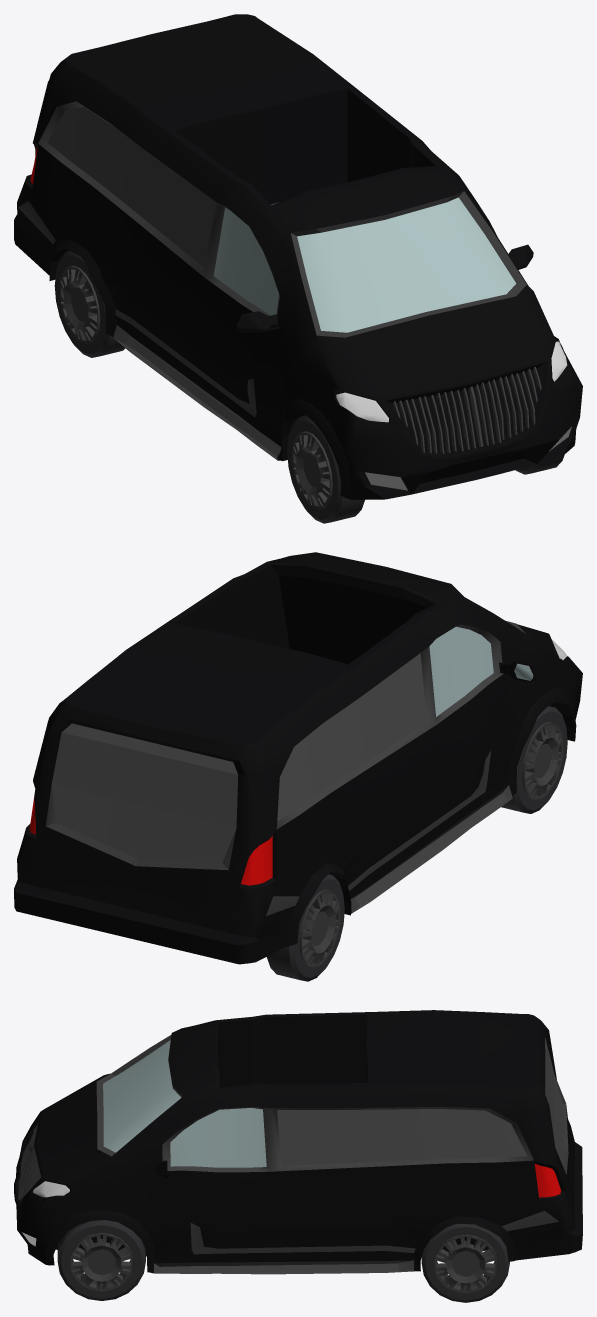
Rendered from Car_05_V_Class_Maybach.fbx.
3 views of the same model, one above another, from view 1: azimuth 30°, elevation 25°; view 2: azimuth 150°, elevation 25°; view 3: azimuth 270°, elevation 25° (orthographic). The views are drawn at different scales.
Visible parts, largest first — view 1: Car_05_V_Class_Maybach_body, Car_05; view 2: Car_05_V_Class_Maybach_body, Car_05; view 3: Car_05_V_Class_Maybach_body, Car_05.
Boxes of the visible parts, bbox=[...] form: Car_05_V_Class_Maybach_body: bbox=[14, 14, 582, 499]; Car_05: bbox=[54, 250, 564, 523]; Car_05_V_Class_Maybach_body: bbox=[14, 552, 582, 964]; Car_05: bbox=[267, 706, 567, 981]; Car_05_V_Class_Maybach_body: bbox=[14, 1010, 582, 1274]; Car_05: bbox=[57, 1220, 509, 1302].
Size of the model in its own units: 8.71 by 7.39 by 18.1.
